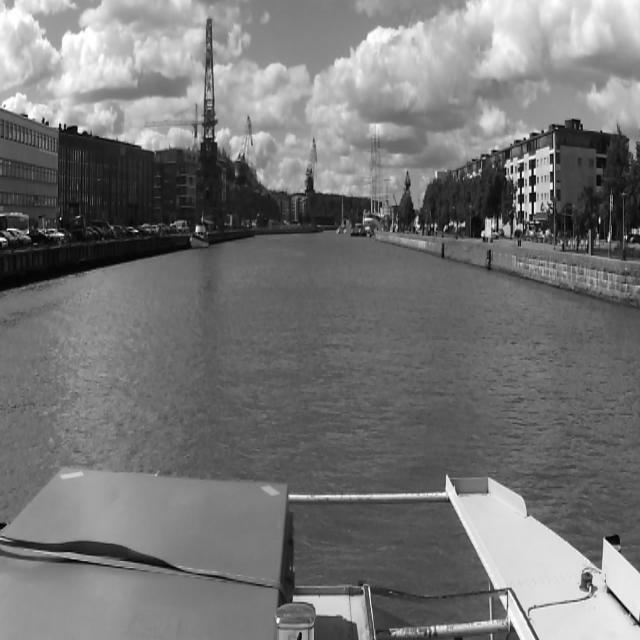ship: (358, 136, 388, 230), (189, 211, 209, 249), (336, 196, 348, 234)
